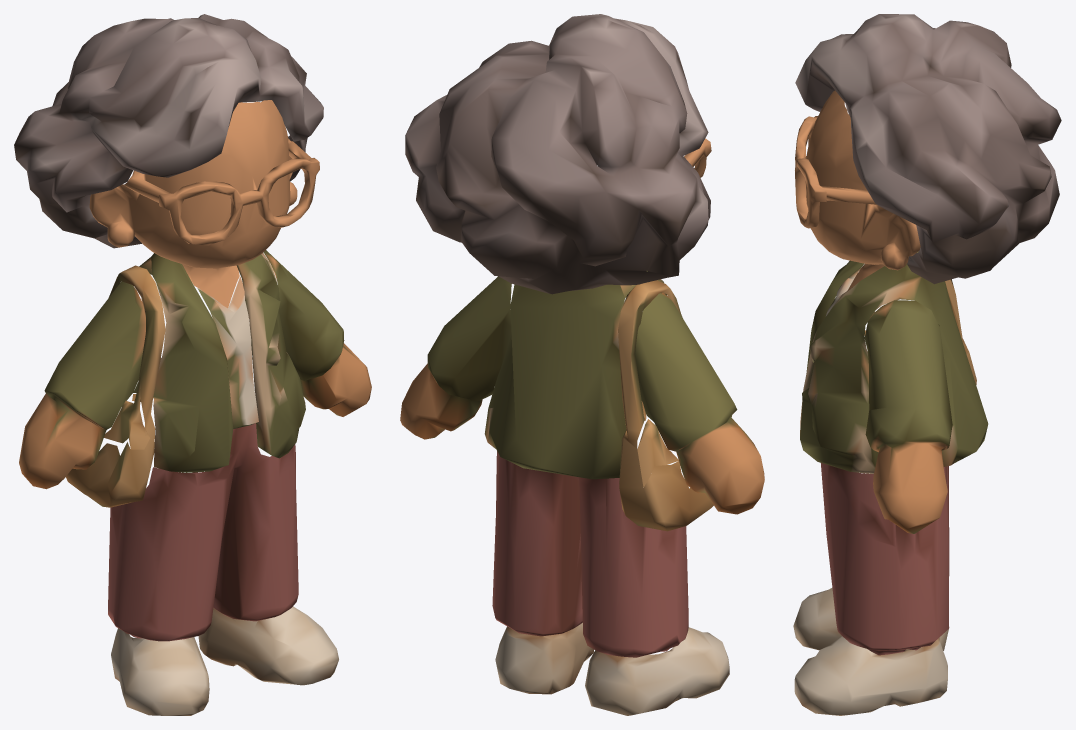
3 renders of one model, left to right at view 1: azimuth 30°, elevation 25°; view 2: azimuth 150°, elevation 25°; view 3: azimuth 270°, elevation 25°, orthographic. The views are drawn at different scales.
Visible parts, largest first — view 1: hair, top, bottom, head, sleeve_r, sleeve_l, shoe_l, shoe_r; view 2: hair, top, bottom, sleeve_r, sleeve_l, shoe_r, shoe_l; view 3: hair, top, bottom, sleeve_l, head, shoe_l, shoe_r.
Part boxes in pixels (left/top/right/bottom): hair: left=14, top=14, right=323, bottom=248; top: left=66, top=253, right=305, bottom=507; bottom: left=108, top=423, right=298, bottom=641; head: left=89, top=100, right=319, bottom=308; sleeve_r: left=19, top=281, right=149, bottom=489; sleeve_l: left=263, top=250, right=371, bottom=416; shoe_l: left=198, top=606, right=338, bottom=685; shoe_r: left=111, top=628, right=209, bottom=715; hair: left=405, top=14, right=710, bottom=294; top: left=484, top=271, right=713, bottom=531; bottom: left=492, top=451, right=688, bottom=657; sleeve_r: left=635, top=293, right=764, bottom=514; sleeve_l: left=400, top=276, right=511, bottom=439; shoe_r: left=585, top=627, right=729, bottom=715; shoe_l: left=495, top=623, right=594, bottom=694; hair: left=795, top=14, right=1061, bottom=284; top: left=800, top=251, right=988, bottom=473; bottom: left=821, top=463, right=949, bottom=655; sleeve_l: left=864, top=300, right=952, bottom=533; head: left=795, top=90, right=920, bottom=290; shoe_l: left=794, top=636, right=947, bottom=715; shoe_r: left=793, top=588, right=949, bottom=653.
Size of the model in its own units: 0.5701 by 1.03 by 0.3877.
